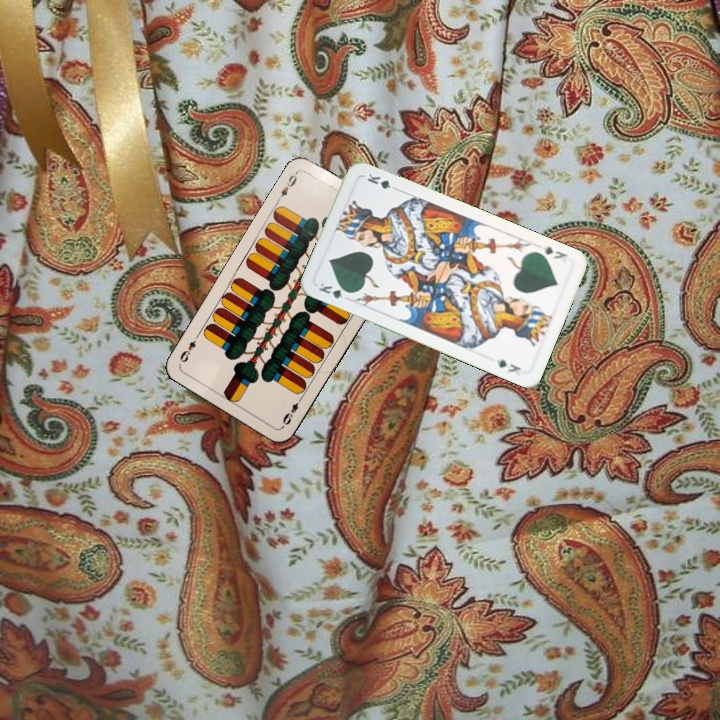E9: (273, 168, 300, 205), (278, 392, 305, 428)
GK: (315, 279, 354, 302), (537, 242, 570, 262)
